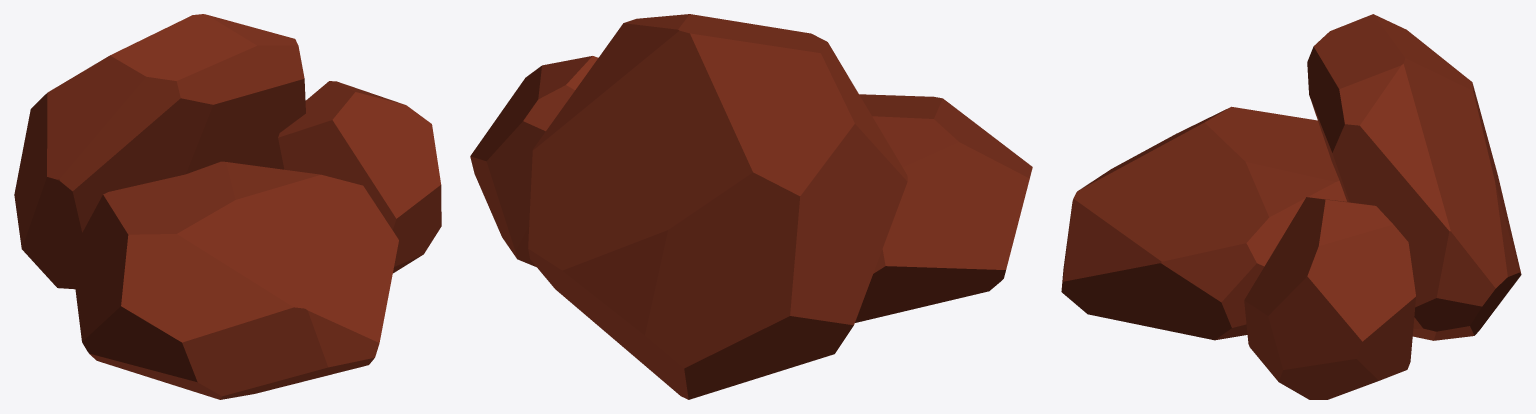
Rendered from lp_Rock_Type2_02_mesh_001_Cube_007.obj.
The picture shows the model from 3 angles, left to right: view 1: azimuth 30°, elevation 25°; view 2: azimuth 150°, elevation 25°; view 3: azimuth 270°, elevation 25°; orthographic projection. The views are drawn at different scales.
Visible parts, largest first — view 1: lp_Rock_Type2_02_mesh_001_Cube_007; view 2: lp_Rock_Type2_02_mesh_001_Cube_007; view 3: lp_Rock_Type2_02_mesh_001_Cube_007.
Boxes of the visible parts, box(x1,y1,x2,y2) form: lp_Rock_Type2_02_mesh_001_Cube_007: box(14, 14, 441, 399); lp_Rock_Type2_02_mesh_001_Cube_007: box(470, 14, 1032, 399); lp_Rock_Type2_02_mesh_001_Cube_007: box(1061, 14, 1521, 399).
Bounding box in the file's own units: 4.6 × 3.09 × 4.43.
